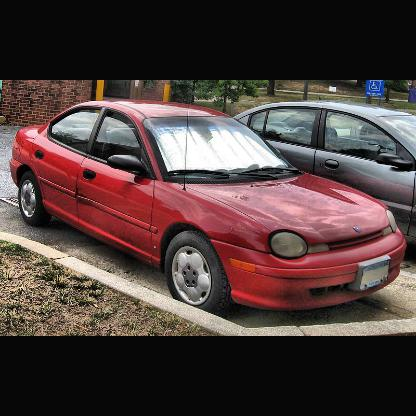Plymouth Neon Coupe 1999: (8, 96, 409, 320)
